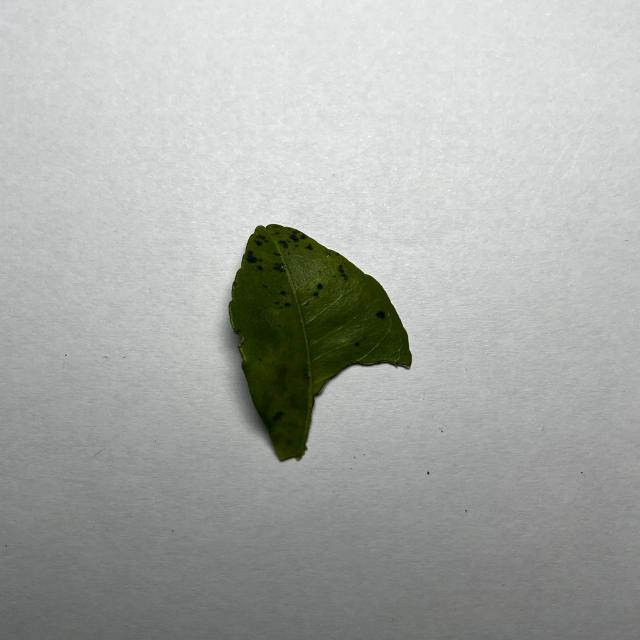sooty_mold: (229, 224, 411, 460)
